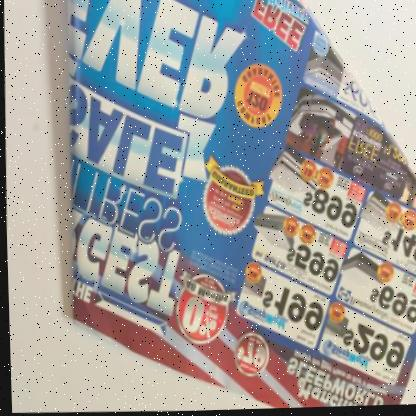Paper: (68, 0, 416, 410)
